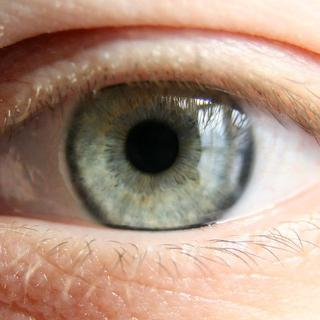pupil: (125, 118, 180, 174)
